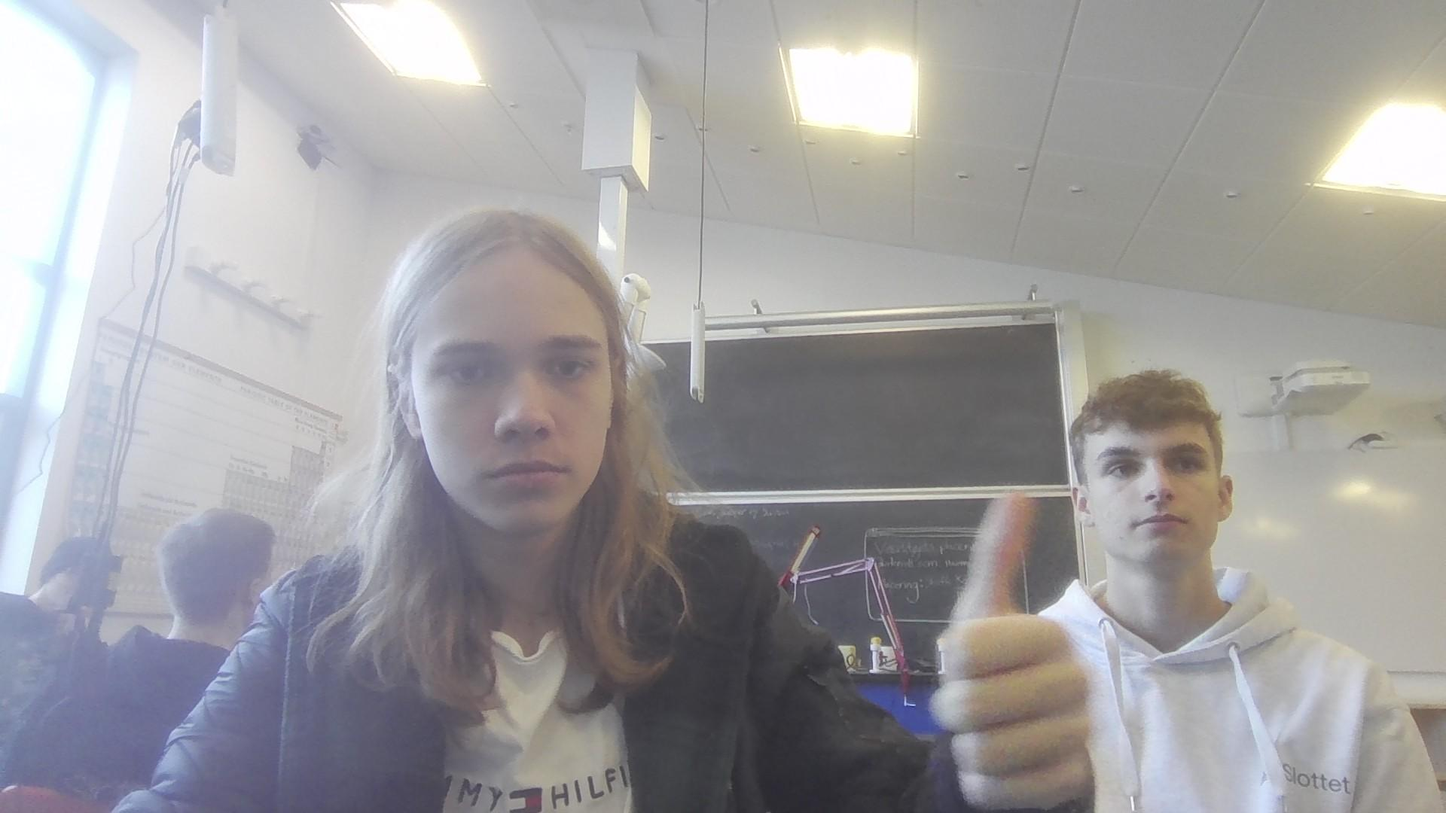thumbs up: (918, 494, 1101, 813)
